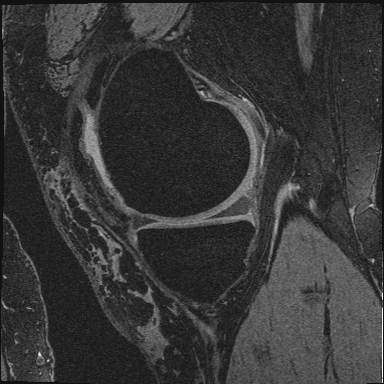effusion: (83, 113, 100, 166)
